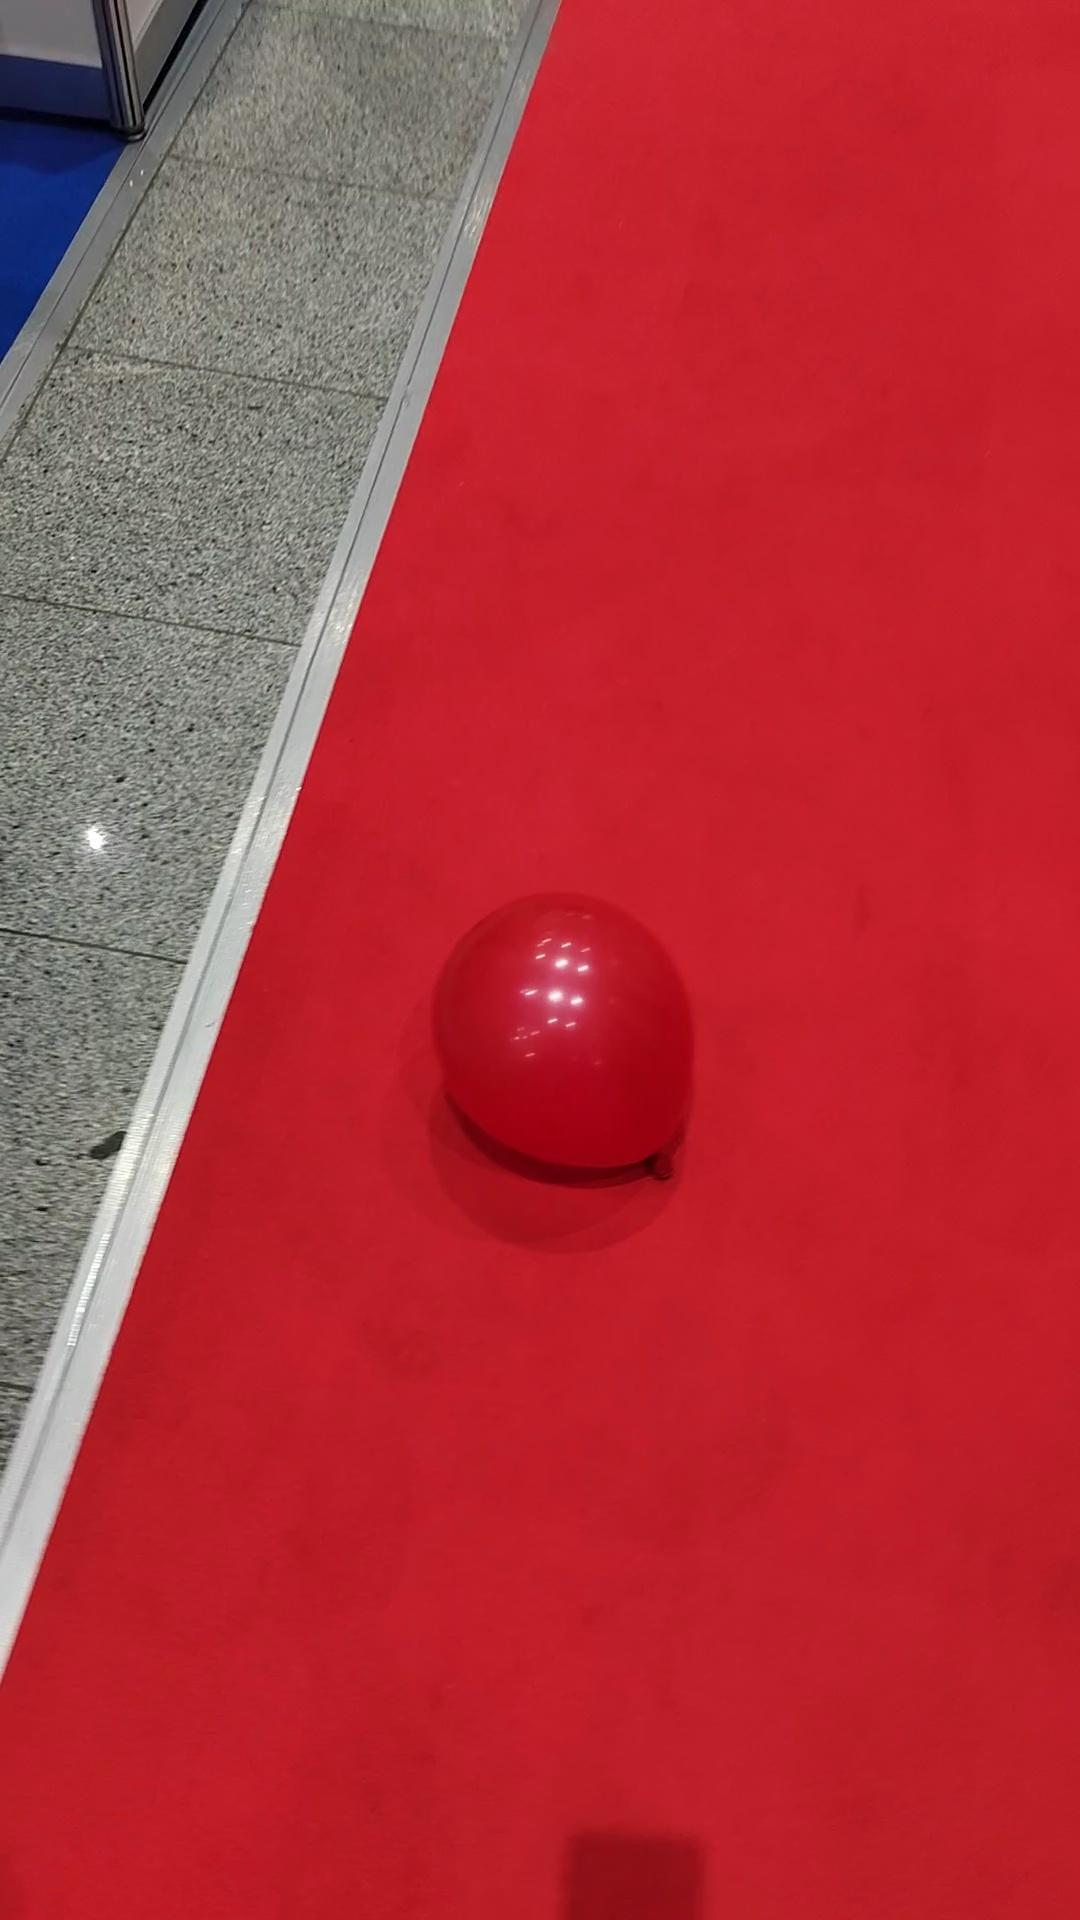red: (433, 893, 694, 1174)
